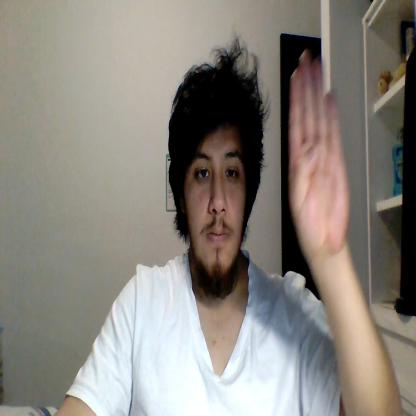B: (289, 50, 350, 258)
